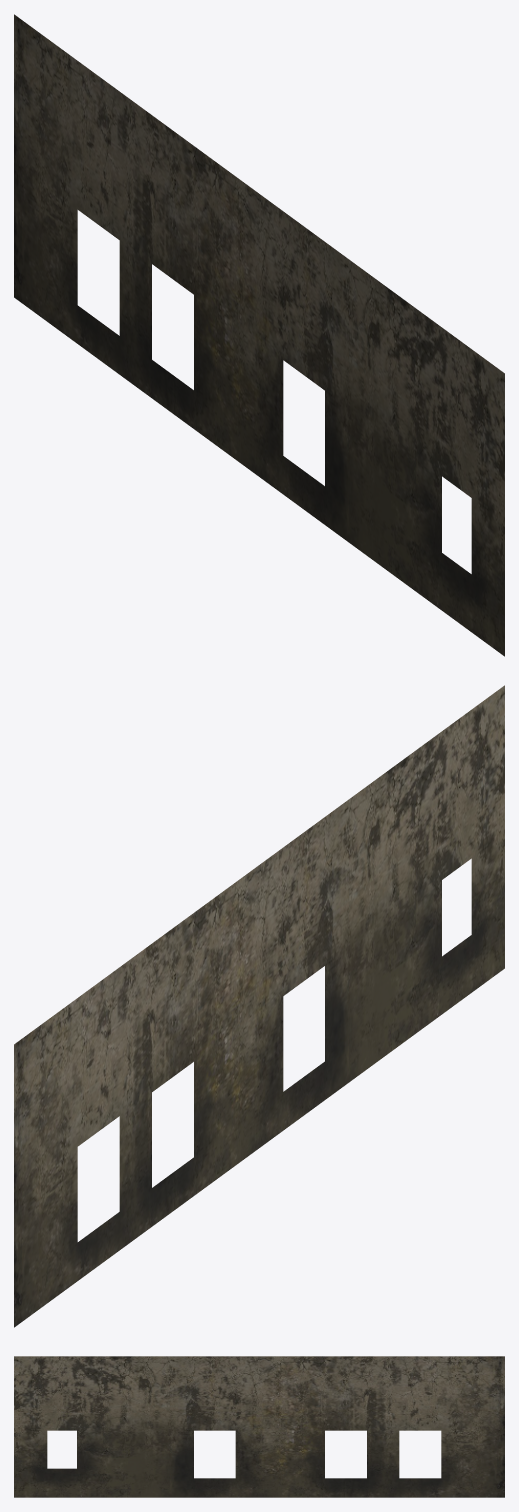
The model's file is Wall_03.FBX.
3 renders of one model, top to bottom at view 1: azimuth 30°, elevation 25°; view 2: azimuth 150°, elevation 25°; view 3: azimuth 270°, elevation 25°, orthographic. The views are drawn at different scales.
Visible parts, largest first — view 1: Wall_03; view 2: Wall_03; view 3: Wall_03.
Boxes of the visible parts, bbox=[...] form: Wall_03: bbox=[14, 14, 504, 656]; Wall_03: bbox=[14, 685, 504, 1327]; Wall_03: bbox=[14, 1356, 504, 1497].
Size of the model in its own units: 0.0131 by 511 by 1606.
